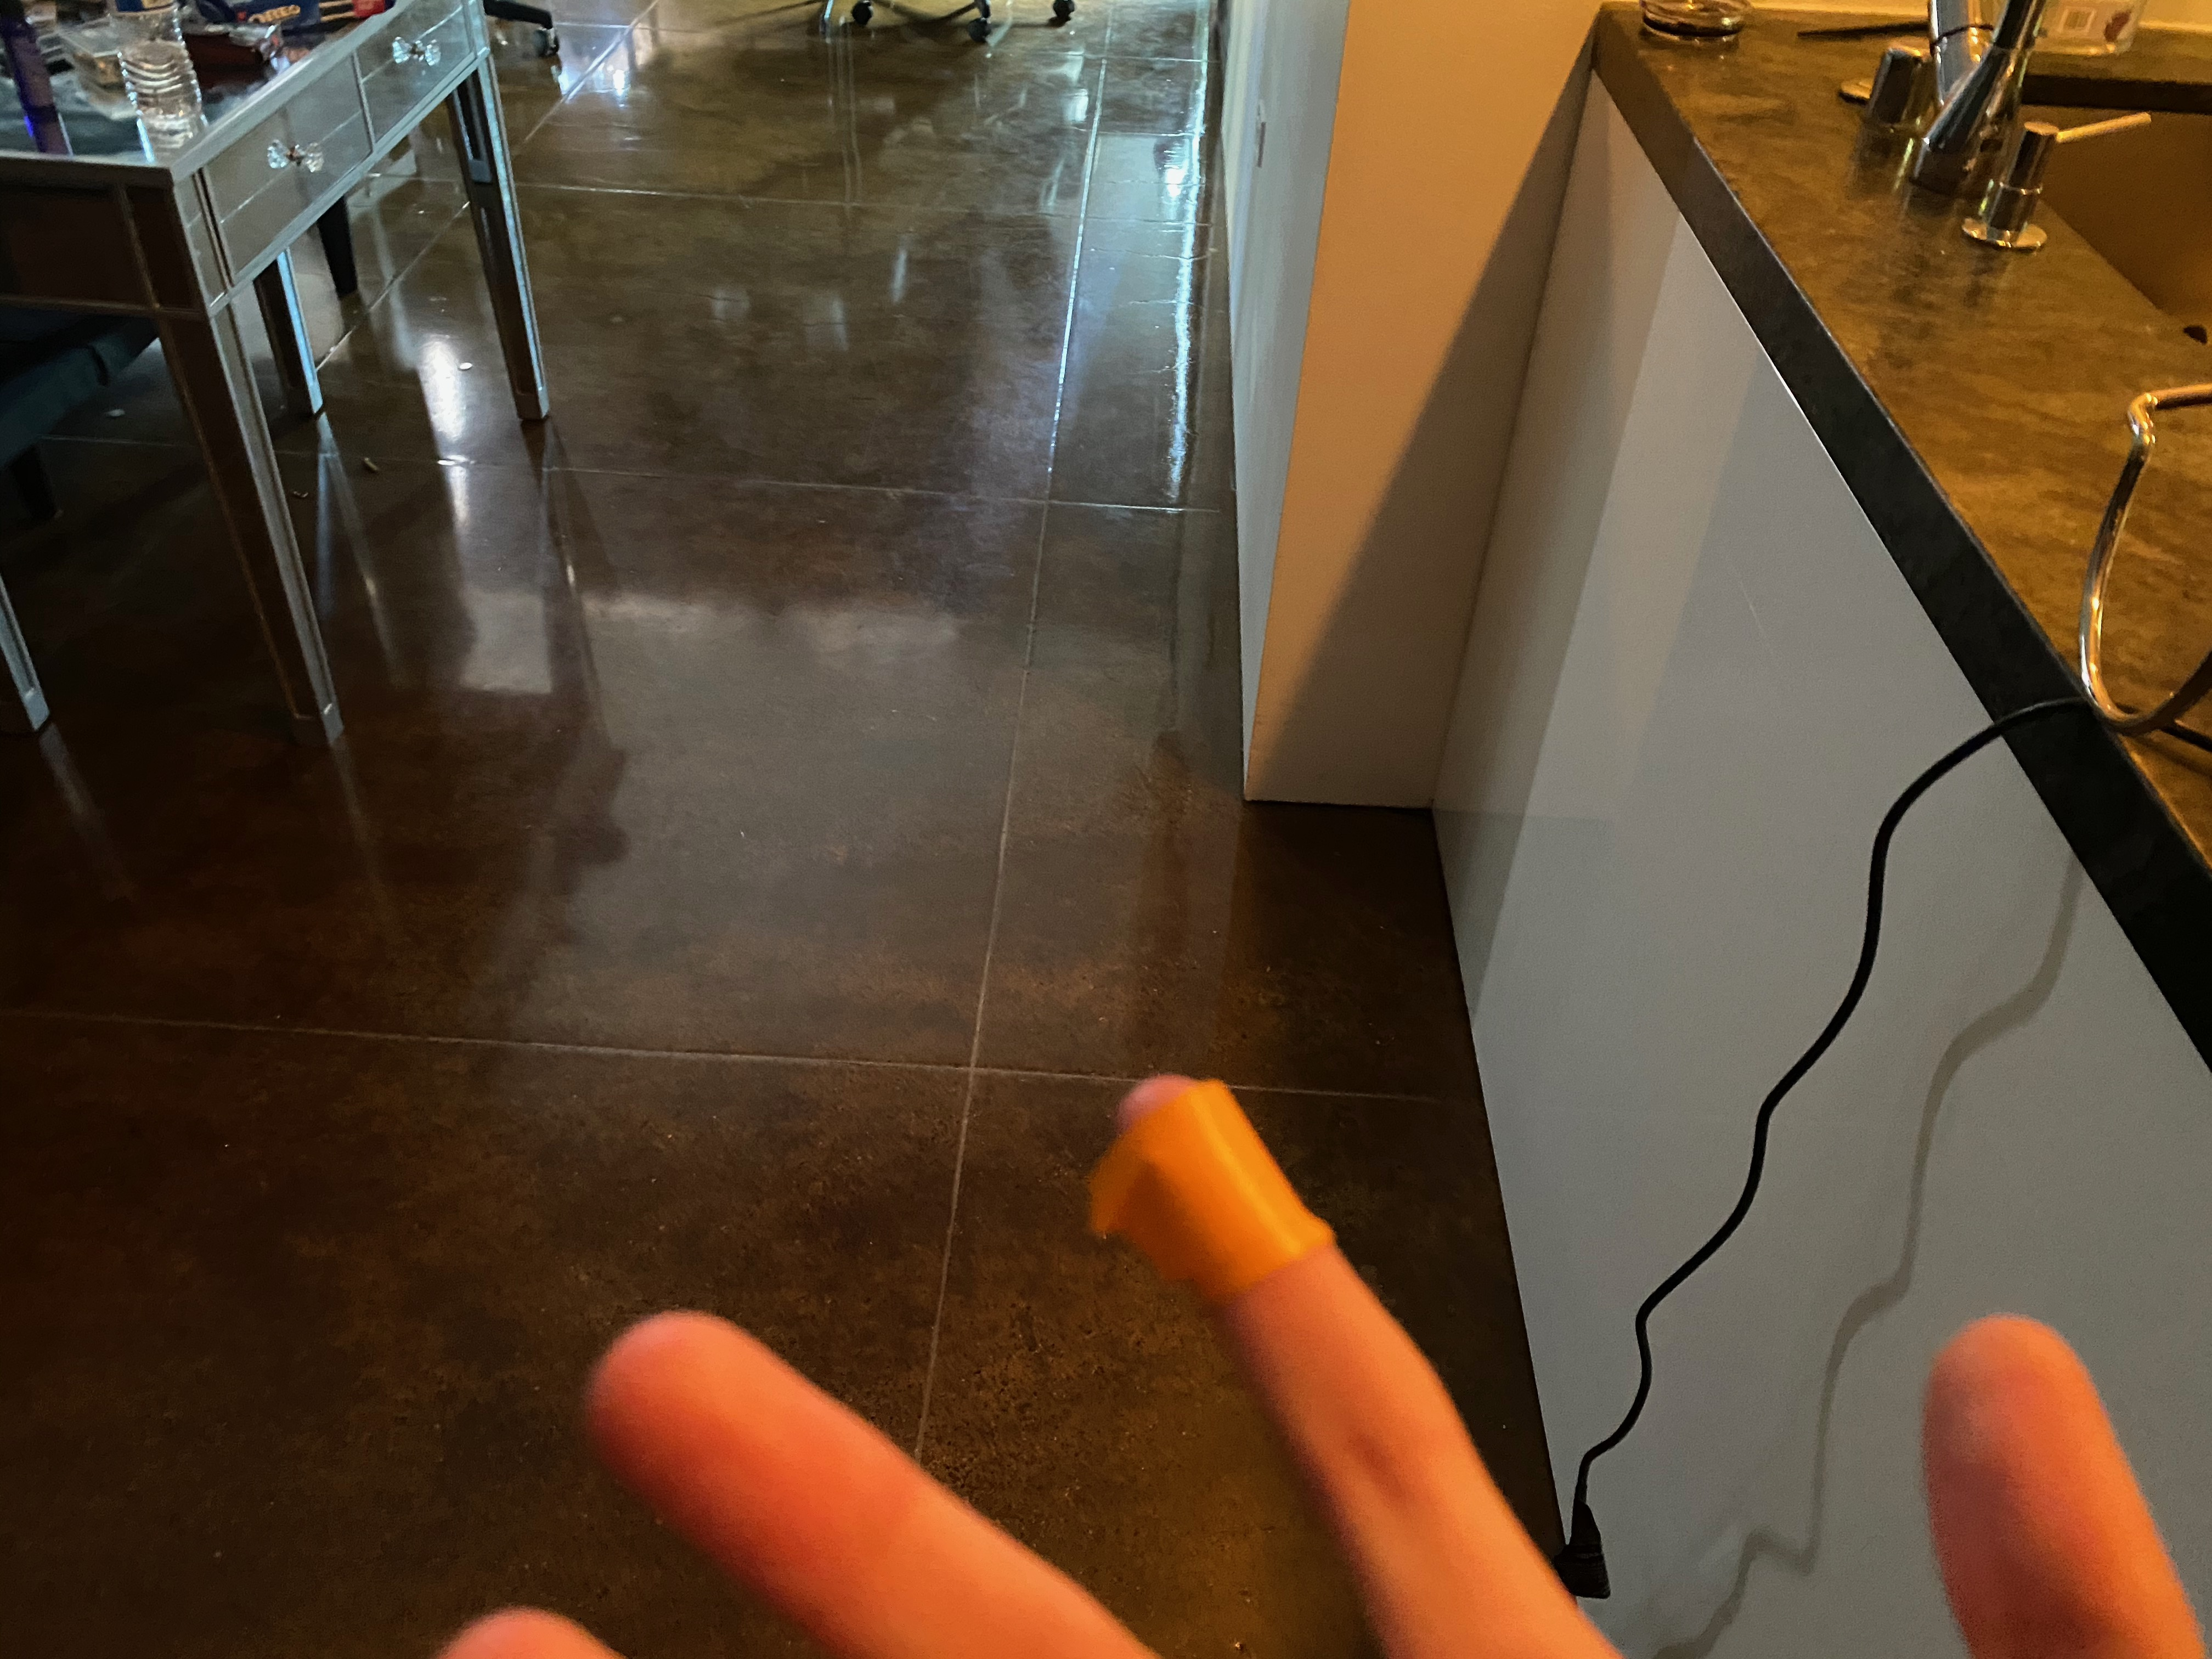fingertip: (1089, 1053, 1310, 1310)
